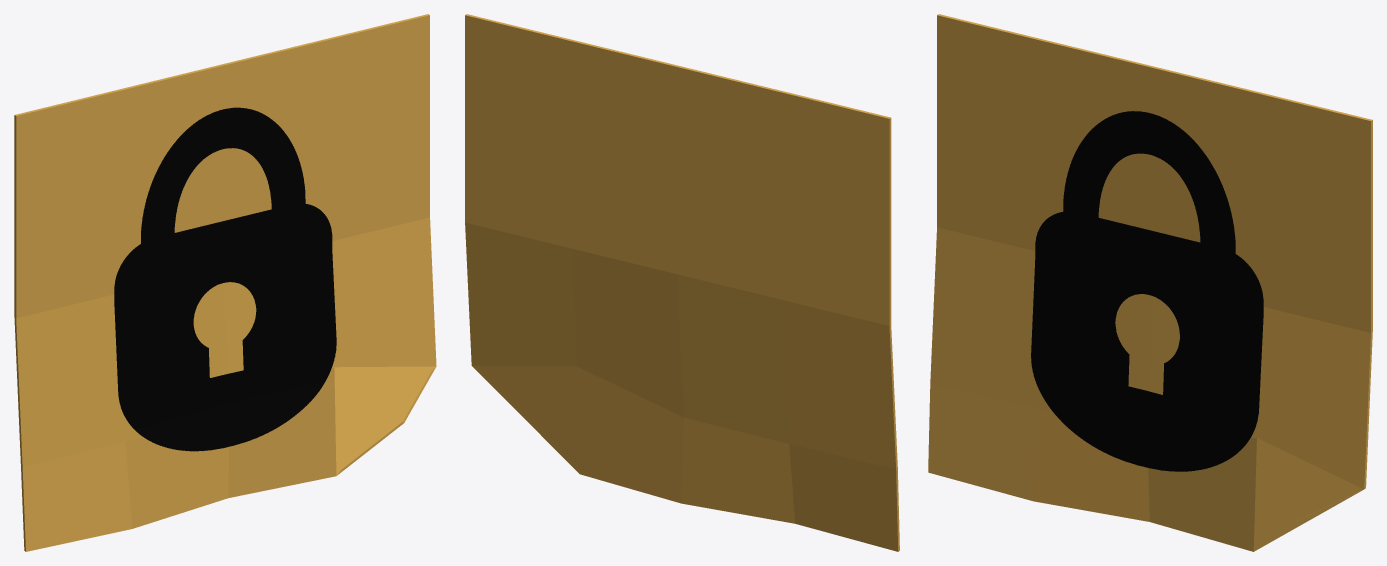
Rendered from LockSticker.fbx.
The picture shows the model from 3 angles, left to right: view 1: azimuth 30°, elevation 25°; view 2: azimuth 150°, elevation 25°; view 3: azimuth 330°, elevation 25°; orthographic projection. The views are drawn at different scales.
Visible parts, largest first — view 1: Plane, lock; view 2: Plane; view 3: Plane, lock.
Boxes of the visible parts, x1,y1,x2,y2 form: Plane: (14,14,436,551); lock: (114,107,336,451); Plane: (465,14,899,551); Plane: (928,14,1372,551); lock: (1031,111,1263,471).
Bounding box in the file's own units: 200 × 198 × 21.91.
2 materials, 1 textured.
